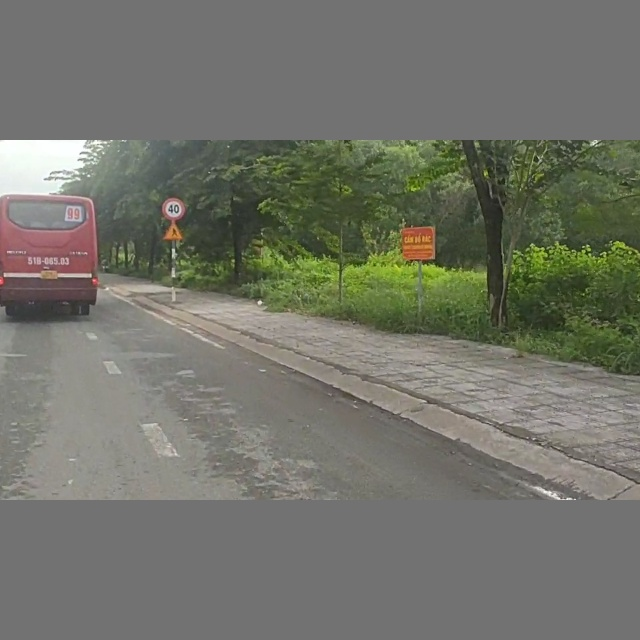P.127*40: (161, 196, 187, 220)
W.224: (163, 222, 185, 241)
